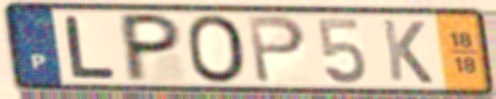5: (315, 16, 369, 86)
K: (378, 17, 436, 86)
L: (61, 13, 119, 81)
O: (183, 12, 251, 86)
P: (244, 14, 309, 86), (121, 11, 185, 84)
